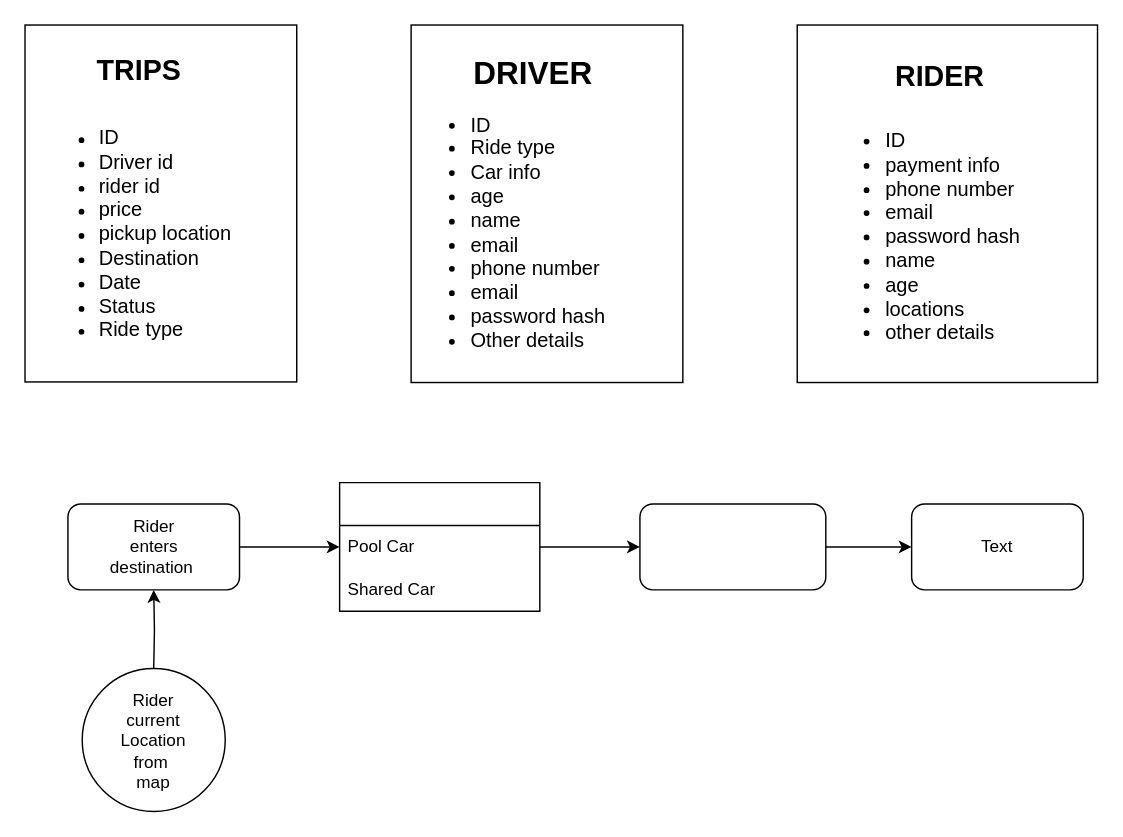
Image size: 1123x837. Some labels were removed from this diagram. The shapes that lost their labels are listed below. From the top down, each one's box as (x1, y1, x2, y2) in pixels, then its label:
(338, 481, 540, 611): Available Options
(638, 503, 826, 590): Rider selects one
